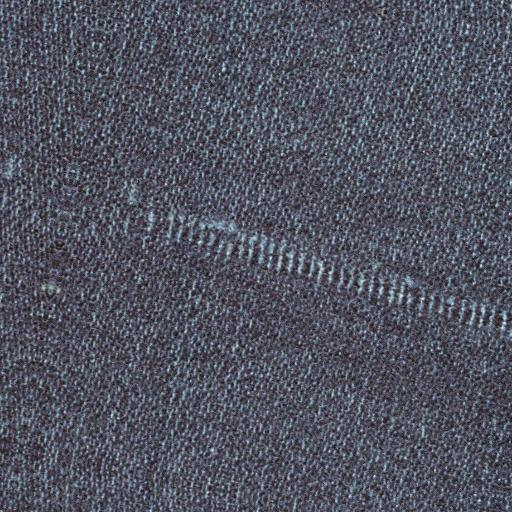slub: (142, 193, 512, 351)
